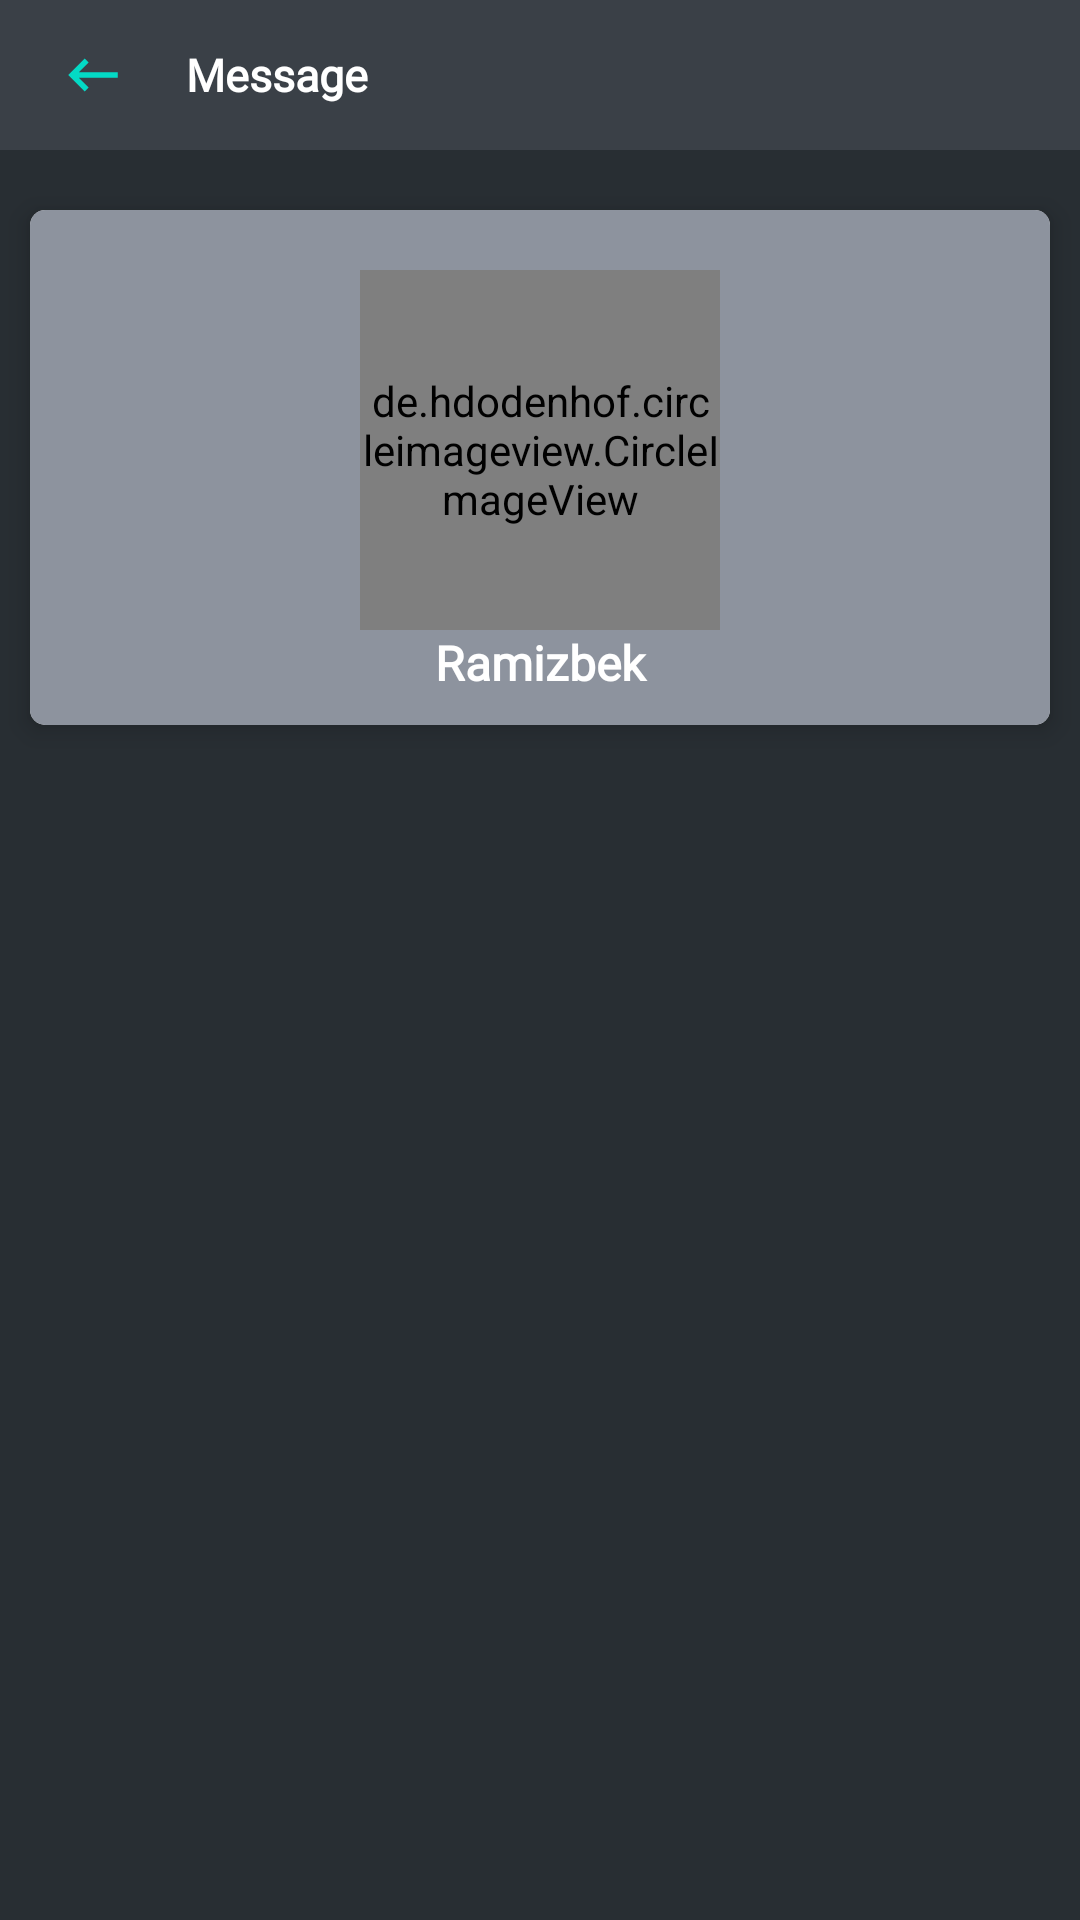

Point at icon controls on the screen. Image size 1080*1920, points as point (x, y).
keyboard backspace: point (93, 75)
